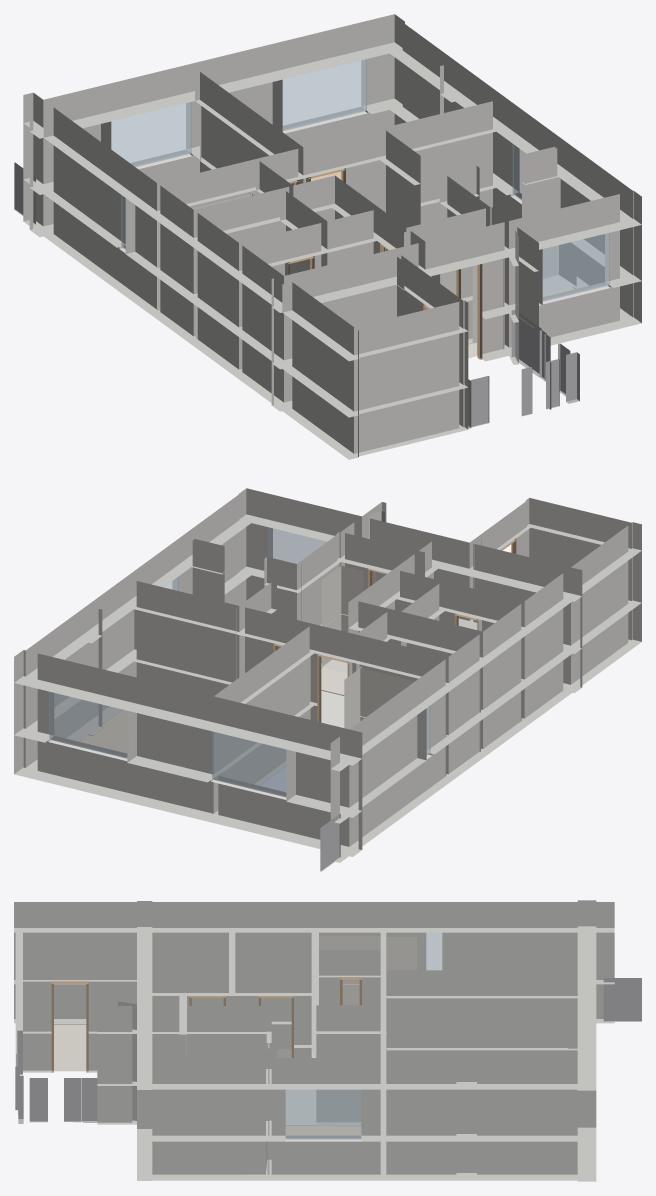
3 renders of one model, top to bottom at view 1: azimuth 30°, elevation 25°; view 2: azimuth 150°, elevation 25°; view 3: azimuth 270°, elevation 25°, orthographic. The views are drawn at different scales.
Parts seen in each view (by area): view 1: walls, railings, window_3, window_0, window_2, furniture_4_appliance; view 2: walls, window_3, window_0, furniture_0_closet, furniture_2_closet, window_2, floor_1_Living_Room, railings, floor_3_Undefined, floor_5_Entry; view 3: walls, railings, window_4, floor_11_Storage, furniture_1_closet, furniture_0_closet, floor_3_Undefined, floor_4_Living_Room, window_13, door_7.
Boxes of the visible parts, bbox=[...] form: walls: bbox=[23, 14, 641, 459]; railings: bbox=[14, 162, 579, 428]; window_3: bbox=[277, 57, 366, 130]; window_0: bbox=[106, 102, 191, 166]; window_2: bbox=[540, 233, 609, 301]; furniture_4_appliance: bbox=[543, 242, 576, 294]; walls: bbox=[14, 488, 641, 862]; window_3: bbox=[49, 692, 127, 758]; window_0: bbox=[212, 727, 290, 796]; furniture_0_closet: bbox=[344, 668, 446, 775]; furniture_2_closet: bbox=[322, 566, 363, 672]; window_2: bbox=[268, 527, 326, 563]; floor_1_Living_Room: bbox=[79, 709, 126, 752]; railings: bbox=[320, 814, 340, 871]; floor_3_Undefined: bbox=[321, 690, 344, 727]; floor_5_Entry: bbox=[321, 667, 347, 694]; walls: bbox=[14, 900, 614, 1181]; railings: bbox=[15, 978, 641, 1123]; window_4: bbox=[285, 1089, 361, 1138]; floor_11_Storage: bbox=[54, 1023, 86, 1071]; furniture_1_closet: bbox=[319, 936, 380, 1005]; furniture_0_closet: bbox=[386, 937, 416, 970]; floor_3_Undefined: bbox=[286, 1090, 315, 1124]; floor_4_Living_Room: bbox=[286, 1125, 360, 1135]; window_13: bbox=[426, 932, 442, 970]; door_7: bbox=[51, 981, 88, 1072].
Bounding box in the file's own units: 8.15 × 2.72 × 13.15.
